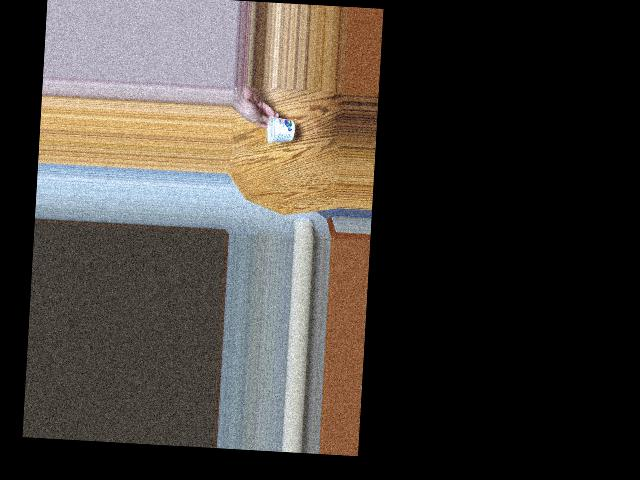cotage: (263, 117, 298, 151)
